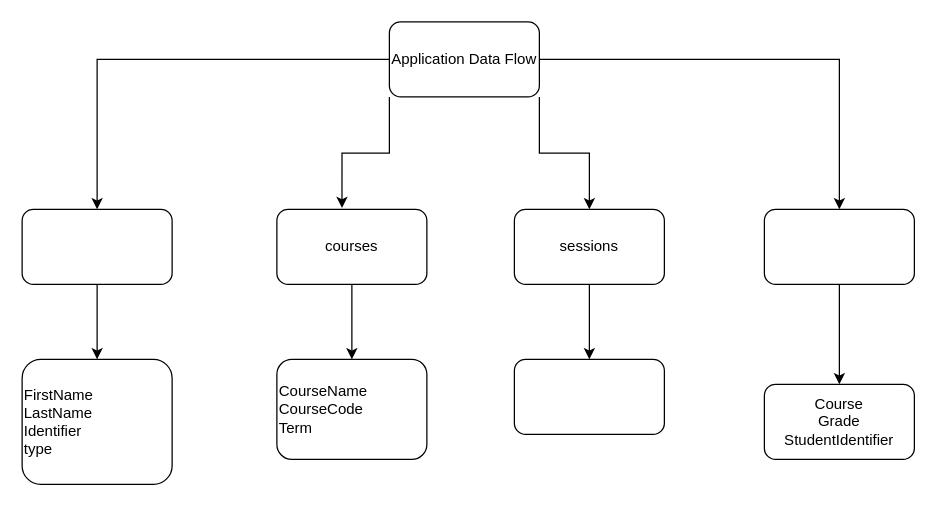
Some shapes in this 936 by 506 pixel diagram are drawn without their labels. The shapes that lost their labels are listed below. From the top down, each one's centre as x and y in pixels, then its label:
pixel 96 246: accounts
pixel 838 246: Grades
pixel 588 396: SessionCourse SessionTime
